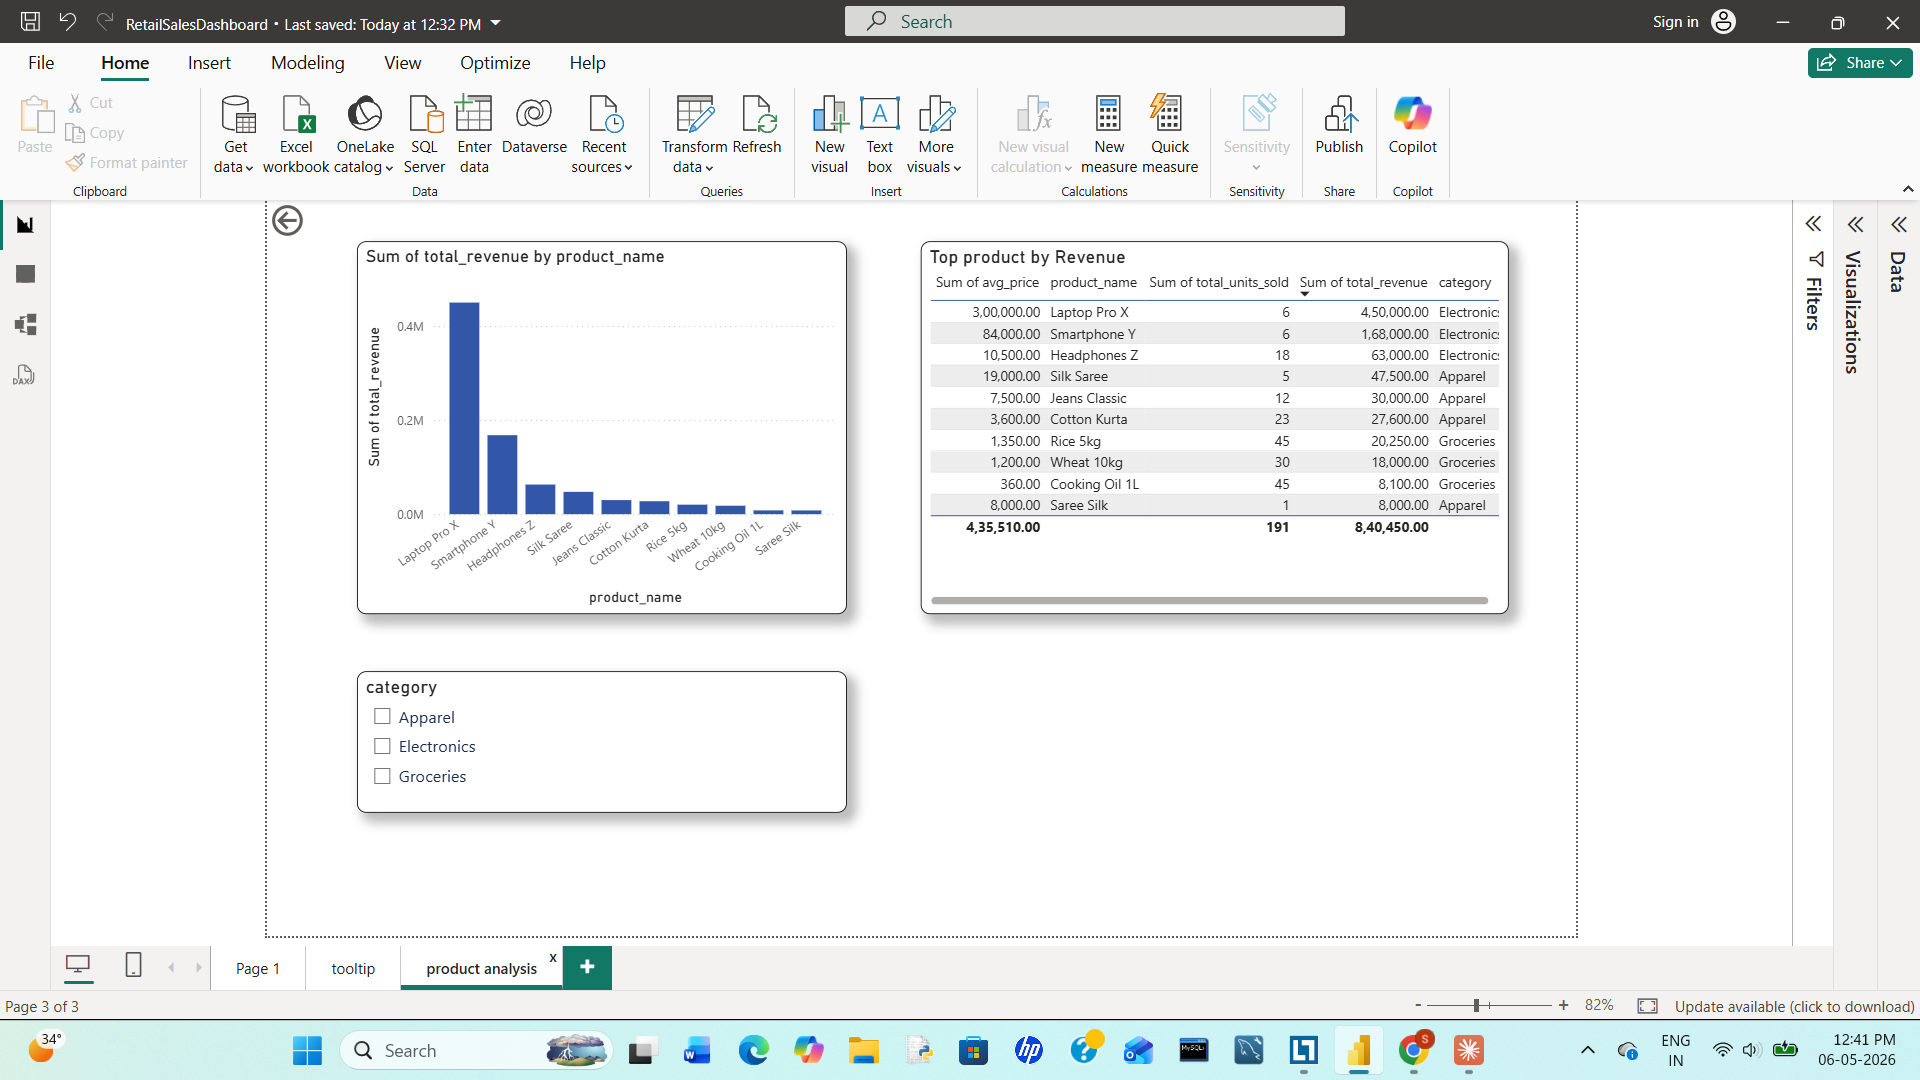

The dashboard page shown, as its layout file describes it:
{"tool":"powerbi","page":{"name":"product analysis","canvas":[1280,720],"ordinal":2},"visuals":[{"type":"clusteredColumnChart","fields":{"Category":["vw_daily_sales_summary.product_name"],"Y":["Sum(vw_daily_sales_summary.total_revenue)"]},"box":[87.8,39.8,478.9,365],"z":0},{"type":"tableEx","title":"Top product by Revenue","fields":{"Values":["Sum(vw_daily_sales_summary.avg_price)","vw_daily_sales_summary.product_name","Sum(vw_daily_sales_summary.total_units_sold)","Sum(vw_daily_sales_summary.total_revenue)","vw_daily_sales_summary.category"]},"box":[639.5,39.8,575,365],"z":1000},{"type":"actionButton","box":[0,0,100,40],"z":2000},{"type":"slicer","title":"category","fields":{"Values":["vw_daily_sales_summary.category"]},"box":[87.8,461.1,478.9,138.6],"z":3000}]}

Visuals, with their boxes on the page's 1280x720 design canvas (x1, y1, x2, y2). These are canvas units, not pixel positions in the 1920x1080 screenshot, which may show the page scaled, cropped or inside an application window:
clusteredColumnChart - vw_daily_sales_summary.product_name x Sum(vw_daily_sales_summary.total_revenue): bbox=[88, 40, 567, 405]
"Top product by Revenue" tableEx: bbox=[640, 40, 1214, 405]
actionButton: bbox=[0, 0, 100, 40]
"category" slicer: bbox=[88, 461, 567, 600]
